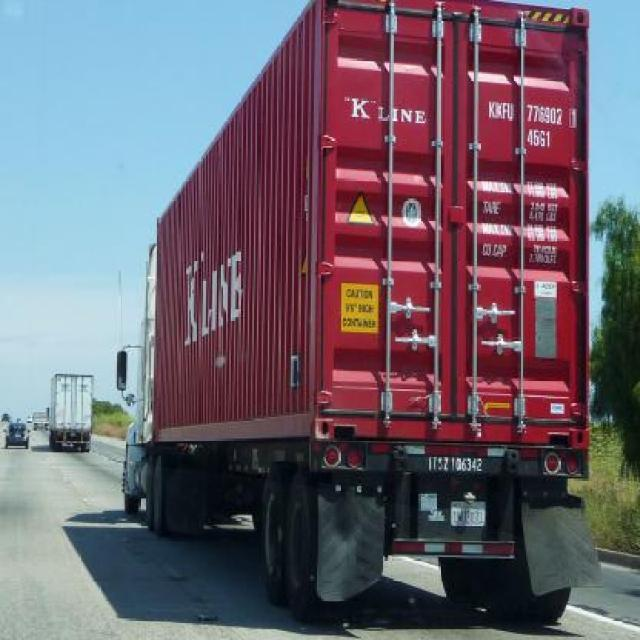ISO: (525, 127, 552, 147)
container_number: (485, 103, 575, 126)
